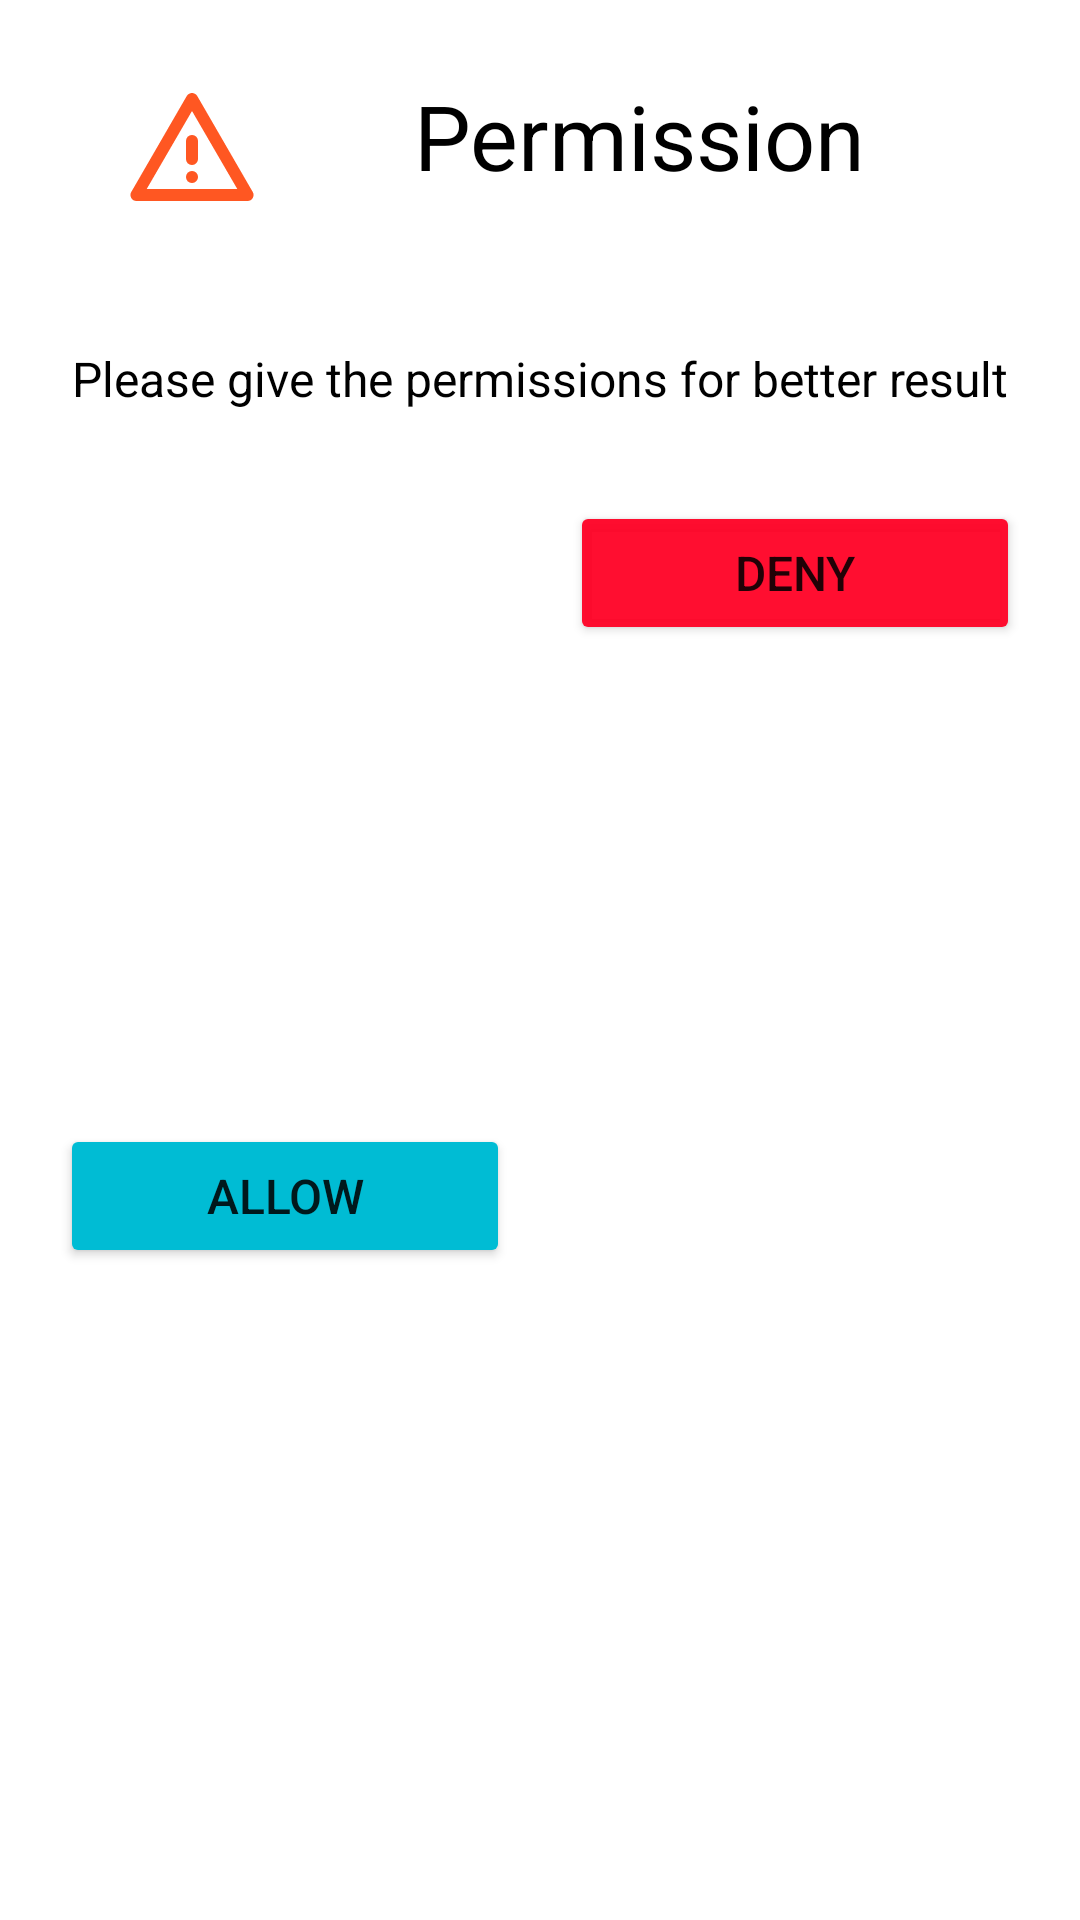

Locate icon controls on the screen. Image size 1080px x 1920px, boxes as bbox(x1, y1, x2, y2).
warning: bbox(130, 93, 254, 201)
